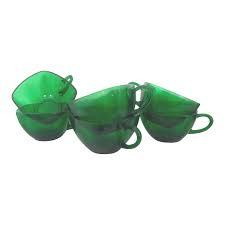glass: (1, 62, 75, 114), (62, 69, 138, 118), (71, 112, 147, 161), (139, 107, 197, 146), (139, 82, 200, 119)
